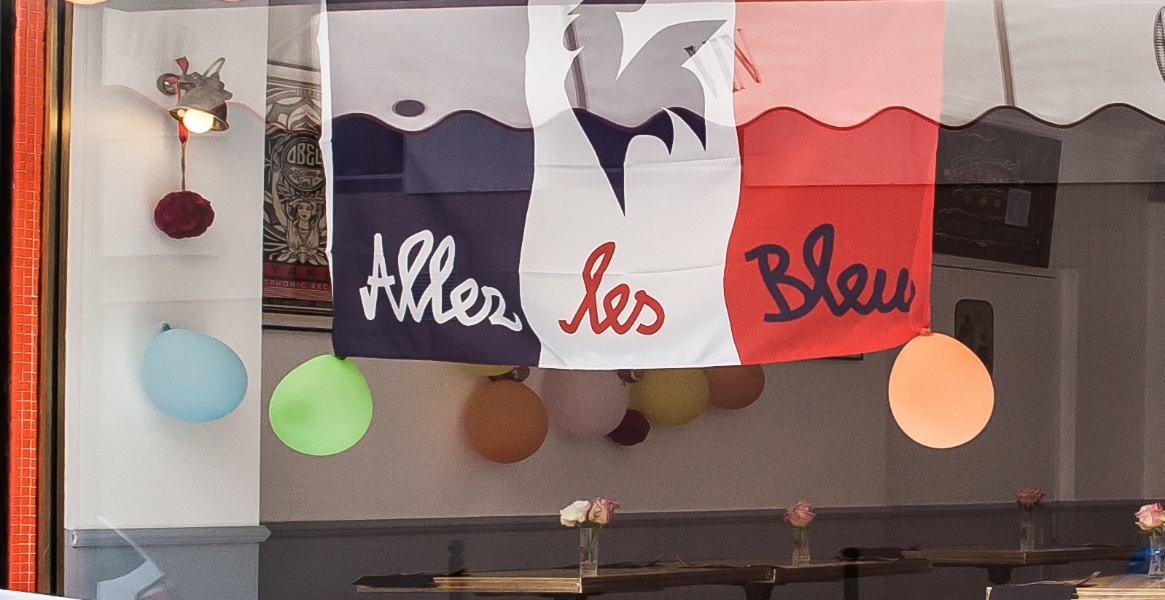text: (561, 231, 576, 342), (577, 231, 592, 342), (593, 231, 608, 342), (609, 231, 624, 342), (625, 231, 640, 342), (641, 231, 656, 342), (737, 216, 752, 326), (753, 216, 768, 326), (769, 216, 784, 326), (785, 216, 800, 326), (801, 216, 816, 326), (817, 216, 832, 326), (833, 216, 848, 326), (849, 216, 864, 326), (865, 216, 880, 326), (881, 216, 896, 326), (897, 216, 912, 326), (353, 226, 368, 334), (369, 226, 384, 334), (385, 226, 400, 334), (401, 226, 416, 334), (417, 226, 432, 334), (433, 226, 448, 334), (449, 226, 464, 334), (465, 226, 480, 334), (481, 226, 496, 334), (497, 226, 512, 334), (513, 226, 528, 334), (657, 231, 668, 342), (913, 216, 919, 326), (945, 214, 960, 252), (961, 214, 976, 252), (977, 214, 992, 252), (993, 214, 1008, 252), (1009, 214, 1024, 252), (1025, 214, 1040, 252), (289, 140, 304, 172), (305, 140, 320, 172), (935, 214, 944, 252), (557, 231, 560, 342), (273, 261, 288, 280), (289, 261, 304, 280), (305, 261, 320, 280), (273, 276, 288, 294), (289, 276, 304, 294), (305, 276, 320, 294), (262, 276, 272, 294), (321, 276, 331, 294), (321, 140, 326, 172), (1041, 214, 1044, 252), (735, 216, 736, 326), (269, 261, 272, 280), (321, 261, 323, 280), (287, 140, 288, 172)
